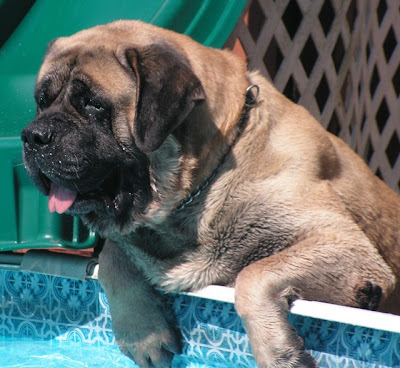mastiff: (20, 19, 400, 368)
